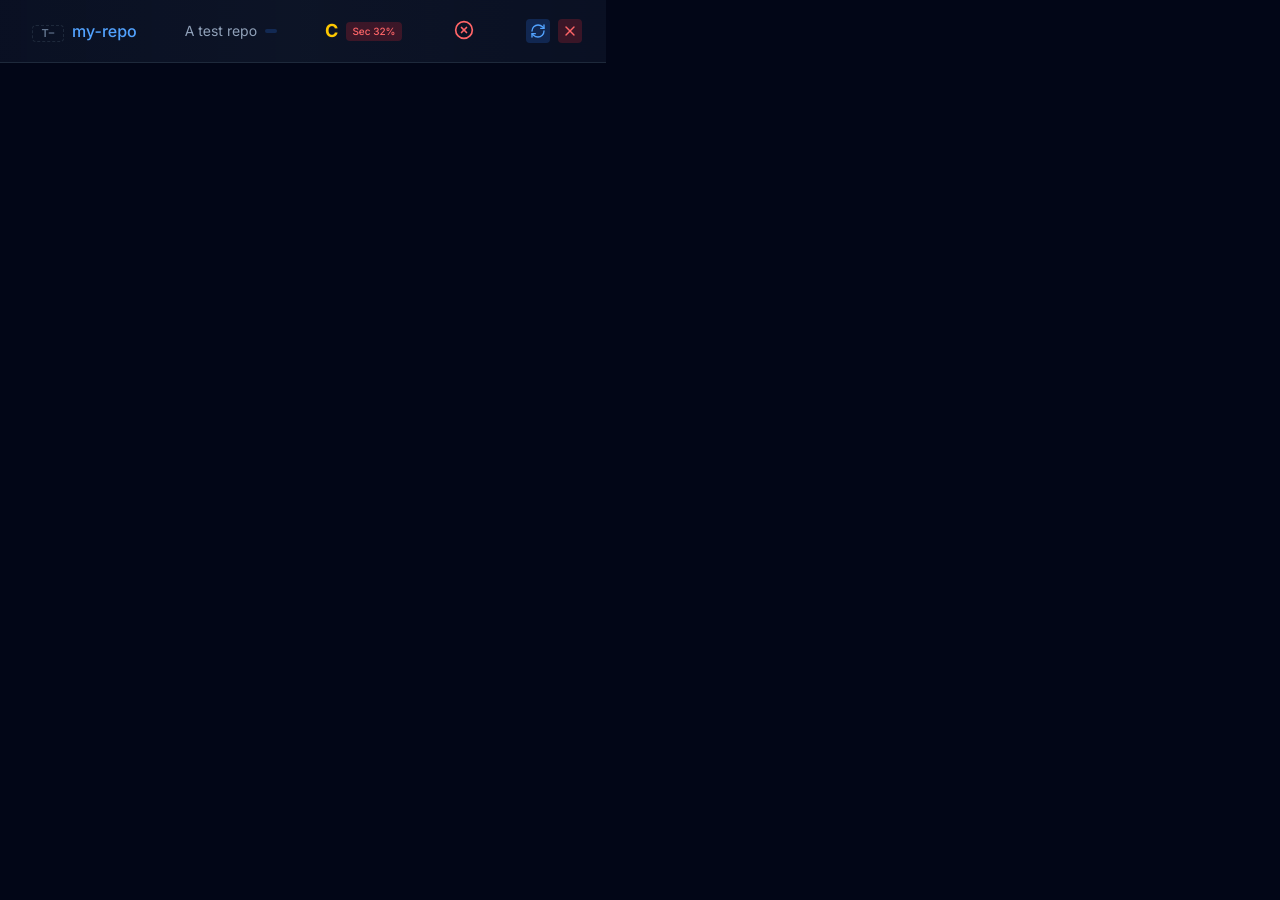
Test: RepoTableRow – inline security badge vs HealthBreakdown popup › shows the same security score in the badge and in the popup
This screenshot has width=1280, height=900.
Hover over the button named "Health grade" at (332, 31), box 325,17 -> 338,45
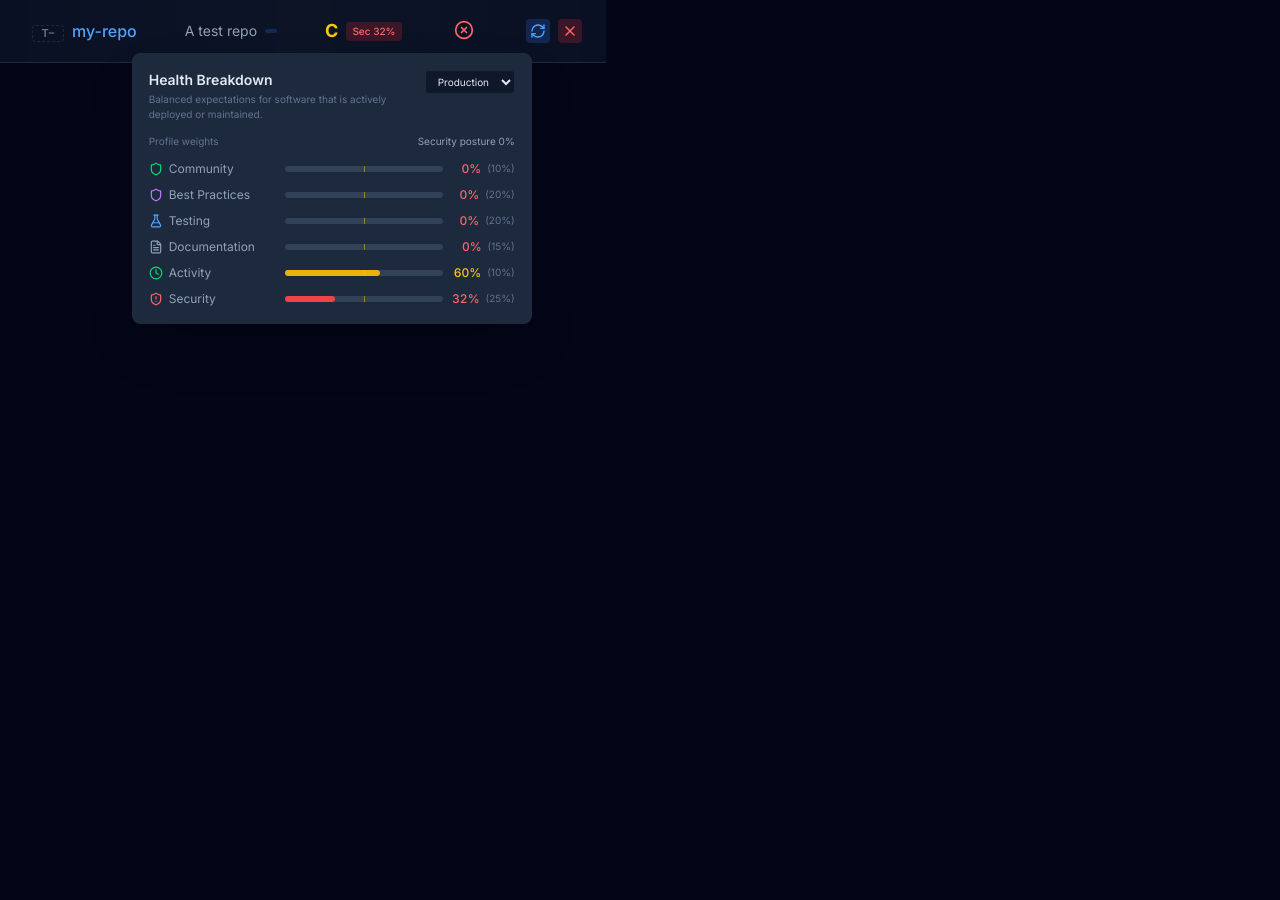
Expected: the text "Security" shows "32", 452,291 -> 468,306
